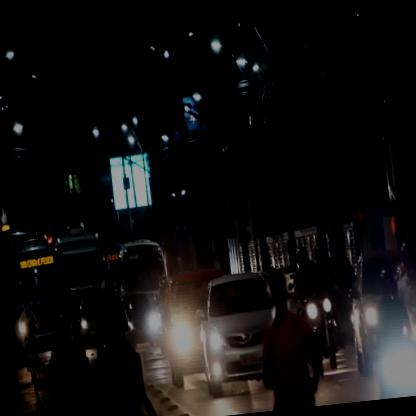bus: (2, 236, 72, 353), (102, 236, 174, 341)
car: (192, 270, 282, 395), (342, 246, 416, 374), (158, 269, 234, 388)
motorcycle: (290, 244, 326, 368), (310, 243, 342, 376), (15, 294, 45, 394)
